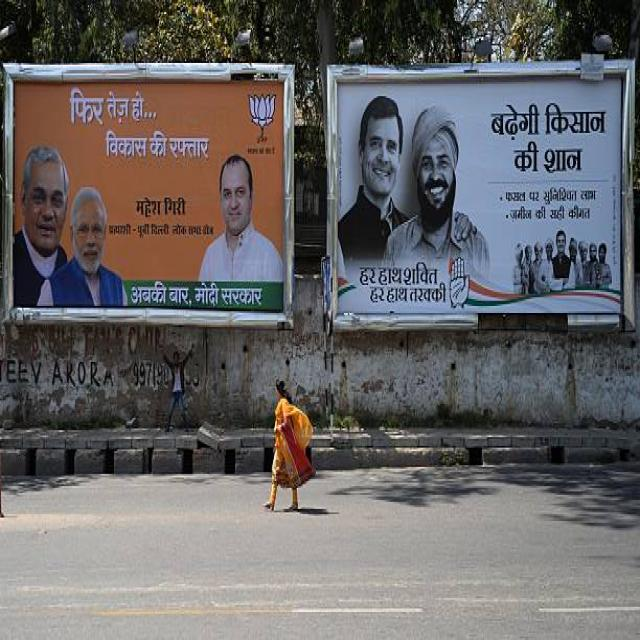Werbetafel frei: (328, 69, 623, 332), (6, 61, 290, 316)
